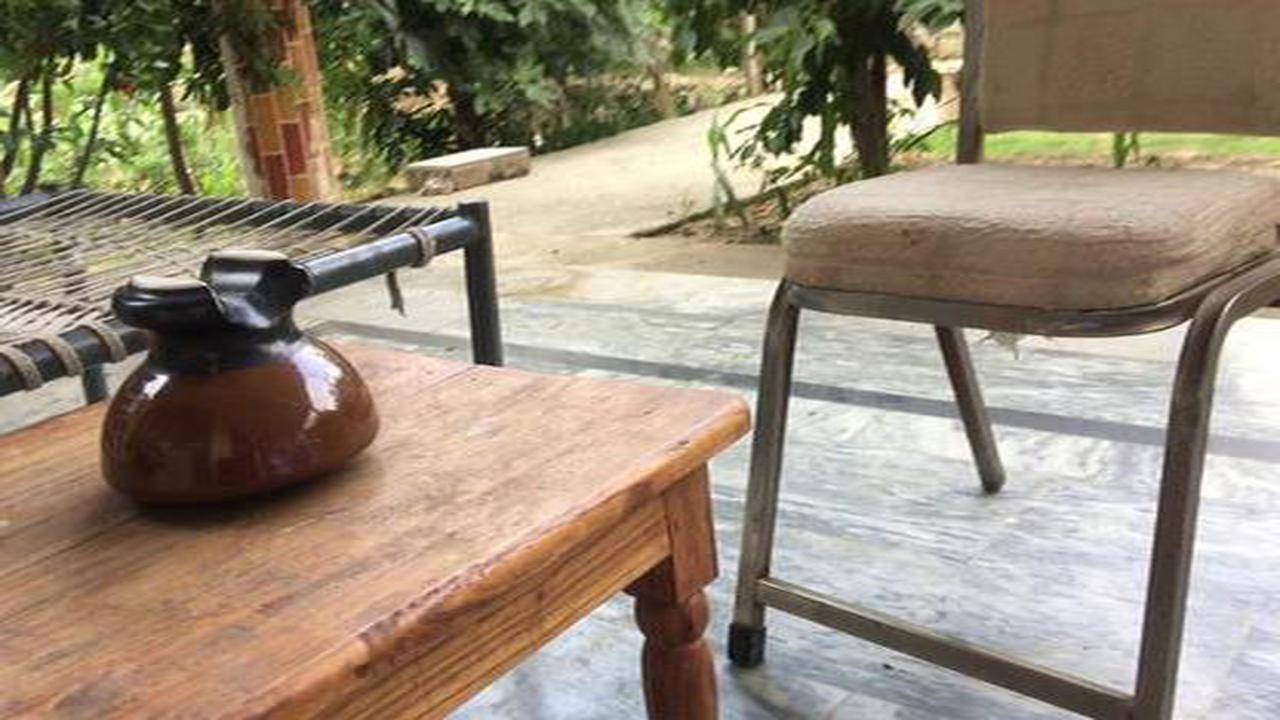insulator_pin: (81, 238, 394, 534)
